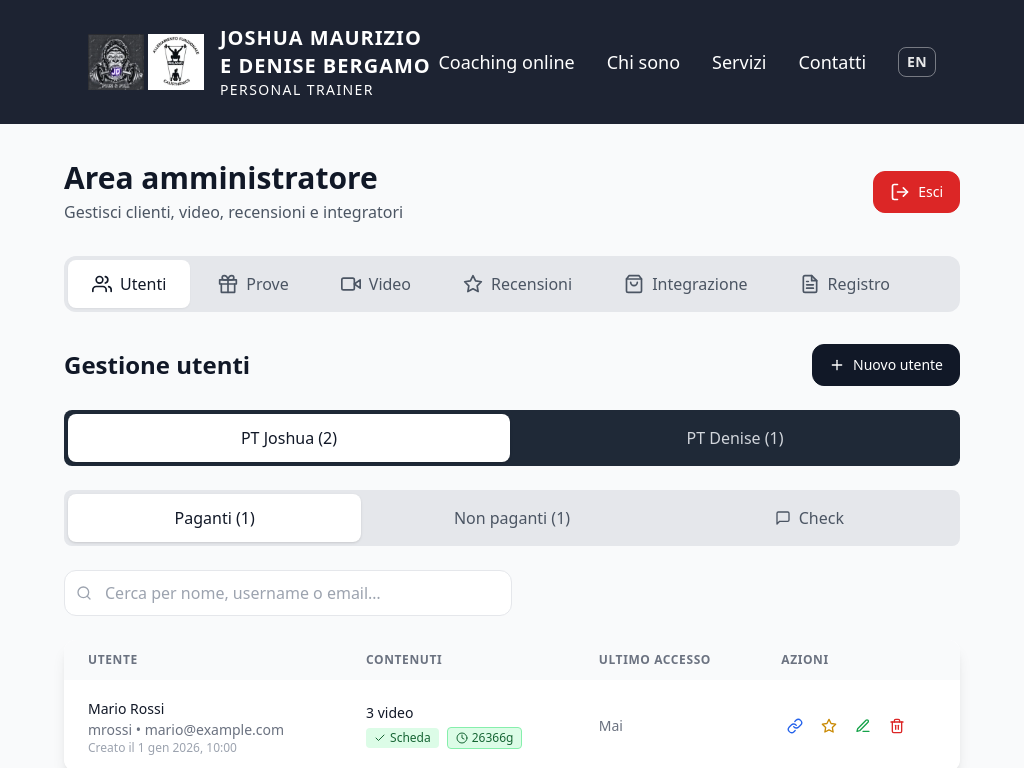
AdminPage — users › filters by trainer, list and search
Expected: the heading "Gestione utenti" is shown, x1=64 y1=349 x2=250 y2=381
Expected: the link "Mario Rossi" is shown, x1=88 y1=699 x2=164 y2=718
Click the button "Non paganti (1)".
click(512, 518)  # box x1=365 y1=494 x2=659 y2=542
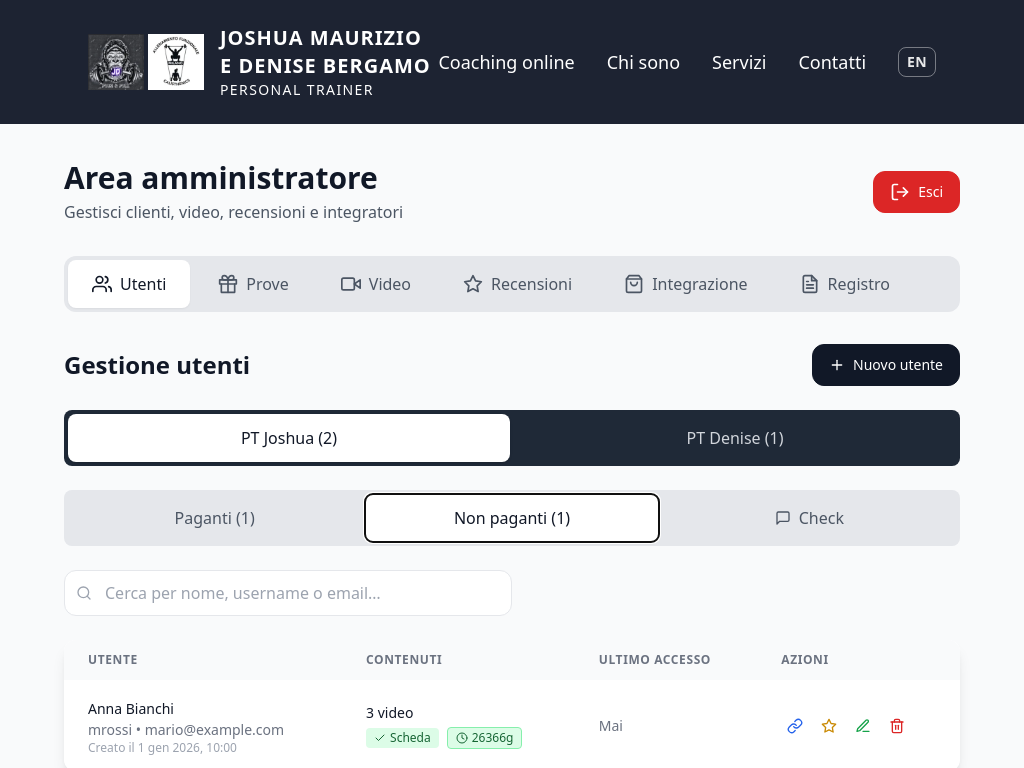
Now the link "Anna Bianchi" is shown, box x1=88 y1=699 x2=174 y2=718
Click the button "PT Denise (1)".
click(735, 438)  # box x1=514 y1=414 x2=956 y2=462
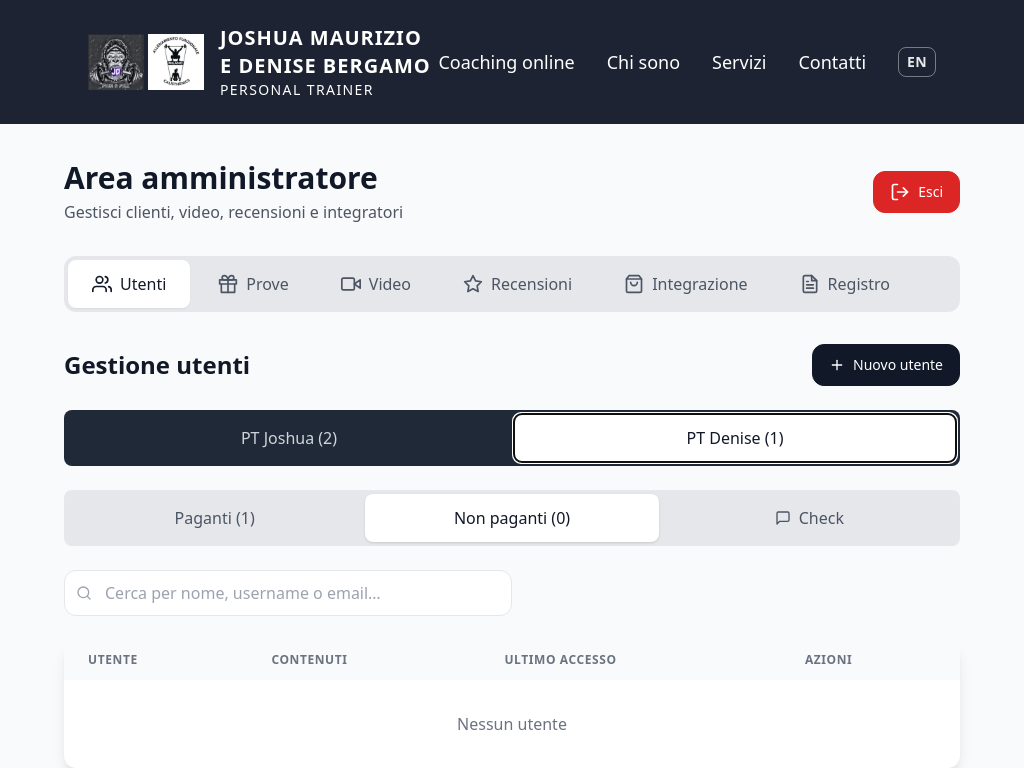
Click the button "Paganti (1)".
click(215, 518)  # box x1=68 y1=494 x2=361 y2=542
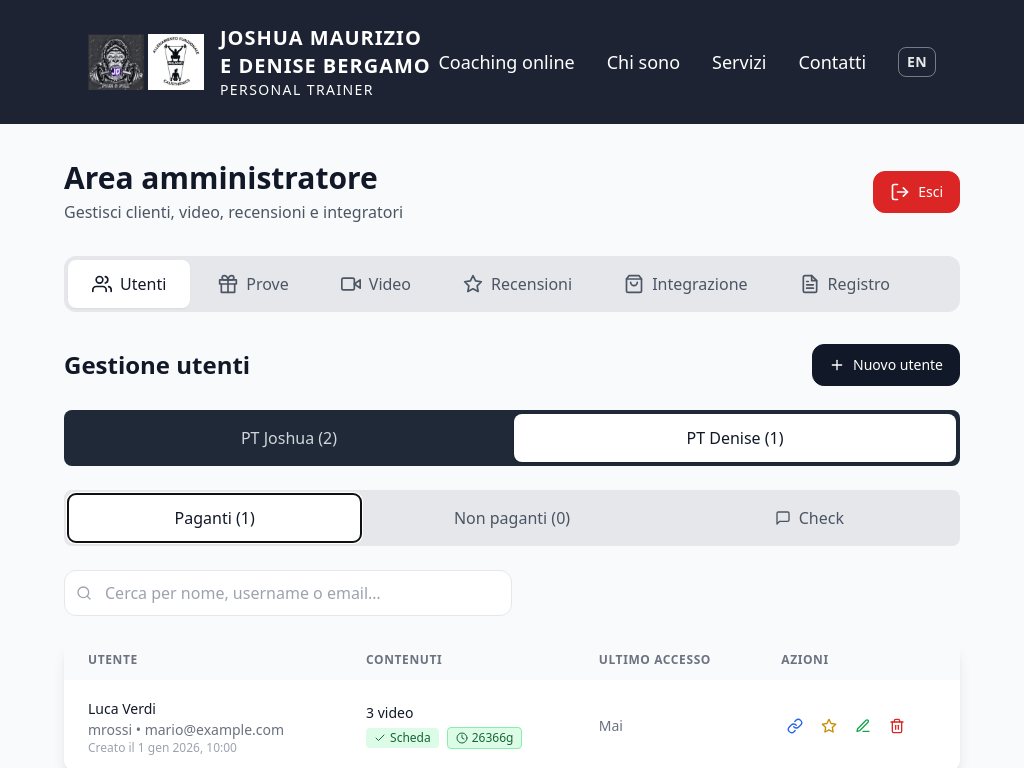
Now the link "Luca Verdi" is shown, box x1=88 y1=699 x2=156 y2=718
Type "zzz" into the search field named "Cerca utenti".
click(288, 593); type("zzz")  # box x1=64 y1=570 x2=512 y2=616
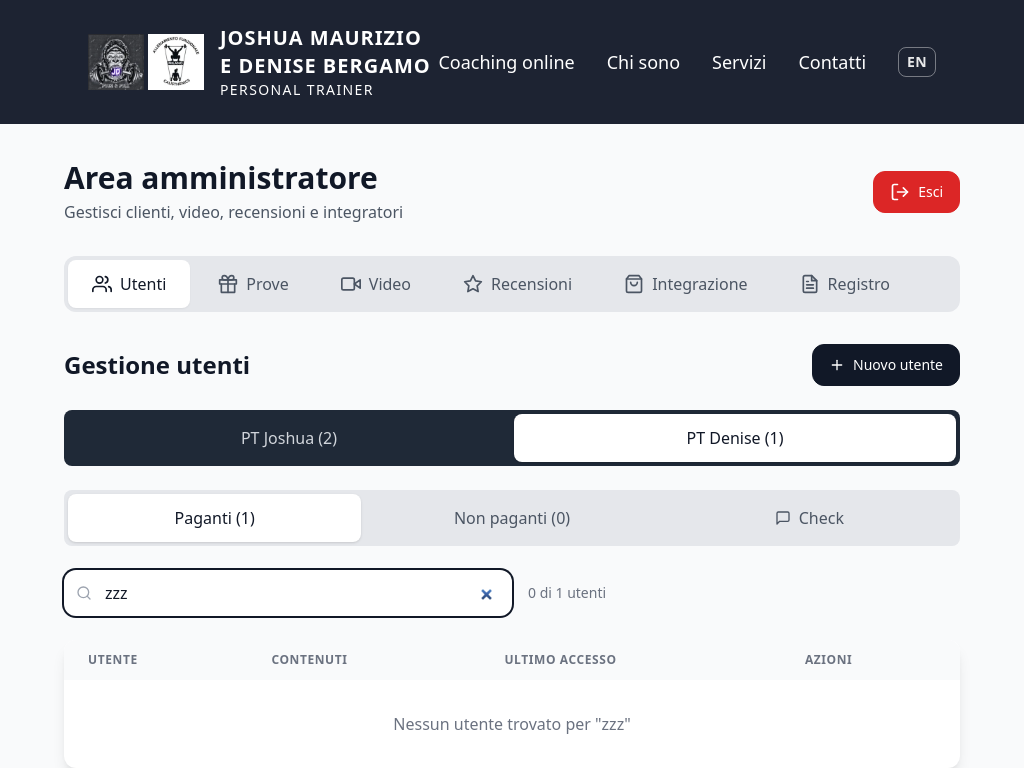
Now the text "Nessun utente trovato per \"zzz\"" is shown, box x1=64 y1=680 x2=960 y2=767
